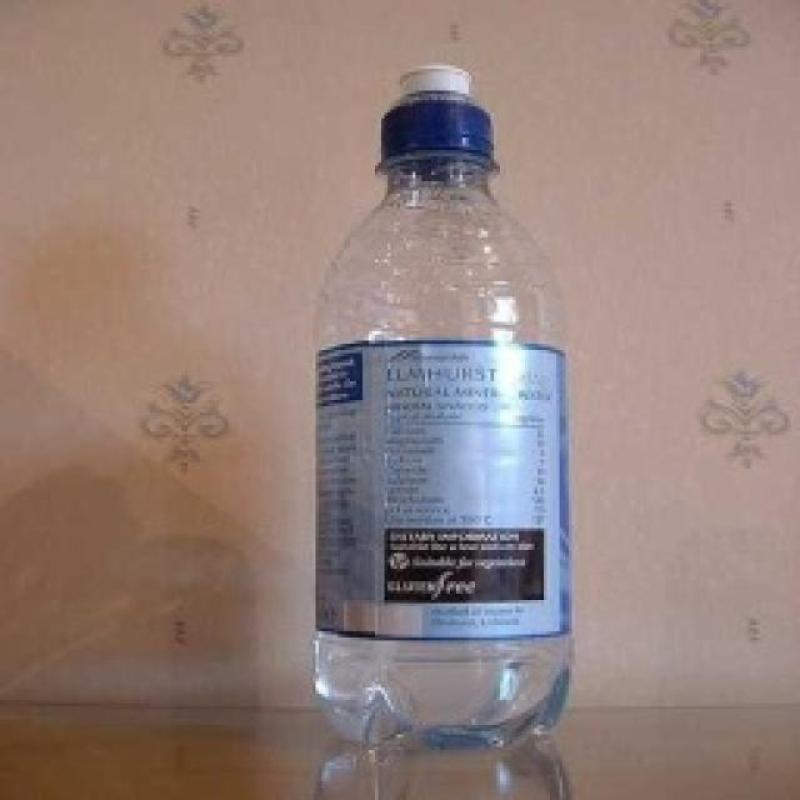botella: (314, 62, 580, 756)
